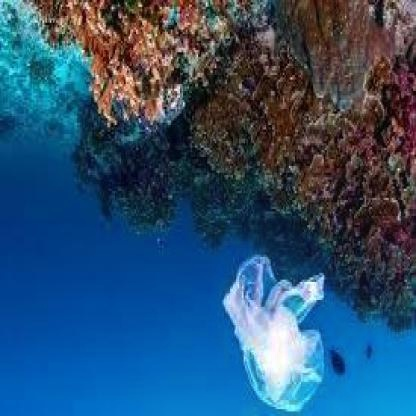pbag: (220, 254, 325, 416)
